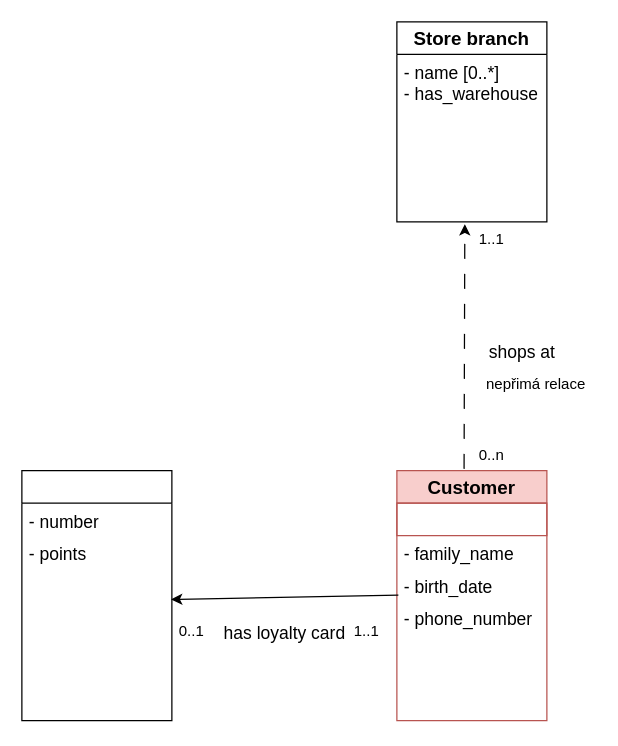
The diagram is 618 pixels wide and 746 high, and some of its shapes have lost their labels. Each missing label, with the box of its shape:
- given_name: (396, 502, 547, 536)
Loyalty Card: (21, 469, 172, 721)
